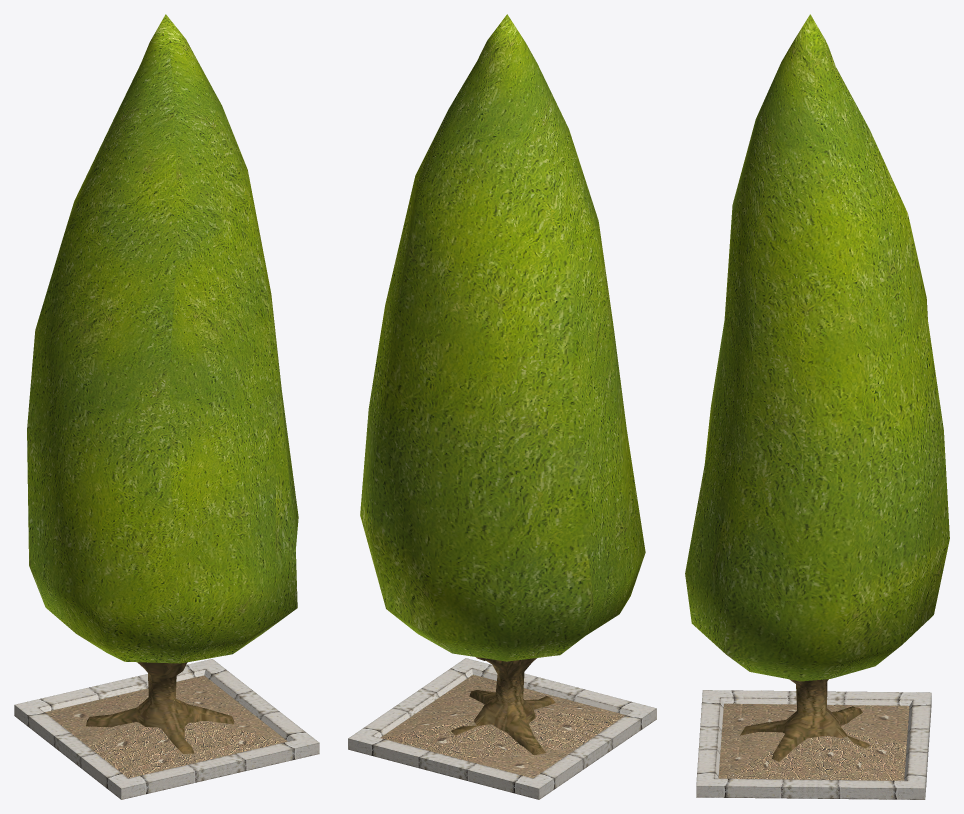
Rendered from ShortCypressTree.glb.
3 views of the same model, side by side, from view 1: azimuth 30°, elevation 25°; view 2: azimuth 150°, elevation 25°; view 3: azimuth 270°, elevation 25° (orthographic). The views are drawn at different scales.
Parts seen in each view (by area): view 1: cypresstree_short_sh_whole.3; view 2: cypresstree_short_sh_whole.3; view 3: cypresstree_short_sh_whole.3.
Boxes of the visible parts, <box> form: cypresstree_short_sh_whole.3: <box>14,14,319,799</box>; cypresstree_short_sh_whole.3: <box>348,14,656,799</box>; cypresstree_short_sh_whole.3: <box>685,14,949,799</box>.
Bounding box in the file's own units: 0.0124 × 0.0353 × 0.0115.
Materials: 1 (1 with a texture image).
